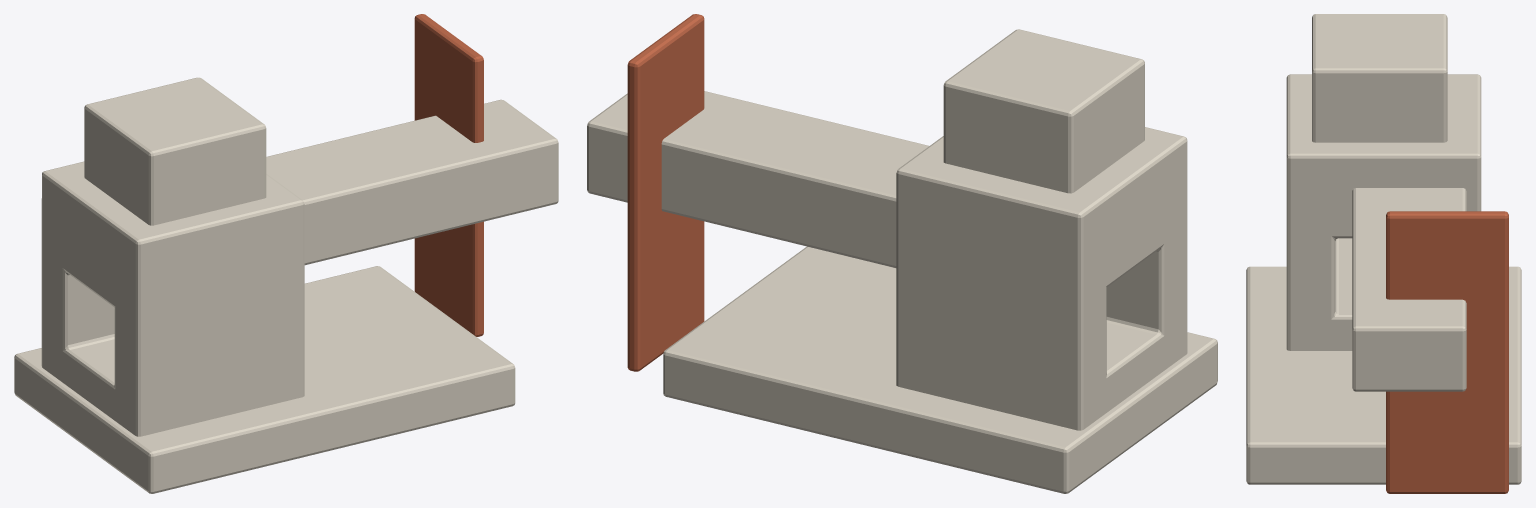
The model's file is forma.glb.
3 renders of one model, left to right at view 1: azimuth 30°, elevation 25°; view 2: azimuth 150°, elevation 25°; view 3: azimuth 270°, elevation 25°, orthographic. The views are drawn at different scales.
Parts seen in each view (by area): view 1: Mass, Base, Cantilever, Upper, Fin; view 2: Mass, Base, Cantilever, Upper, Fin; view 3: Fin, Mass, Base, Upper, Cantilever.
Boxes of the visible parts, x1,y1,x2,y2 form: Mass: (41, 161, 304, 436); Base: (14, 266, 515, 493); Cantilever: (266, 99, 558, 265); Upper: (84, 77, 266, 225); Fin: (414, 14, 483, 336); Mass: (896, 127, 1187, 430); Base: (663, 246, 1217, 493); Cantilever: (587, 91, 928, 267); Upper: (943, 29, 1144, 193); Fin: (627, 14, 704, 371); Fin: (1386, 211, 1508, 493); Mass: (1286, 74, 1481, 350); Base: (1246, 266, 1521, 484); Upper: (1312, 14, 1447, 142); Cantilever: (1352, 188, 1466, 391).
Size of the model in its own units: 2.53 by 1.62 by 1.3.
